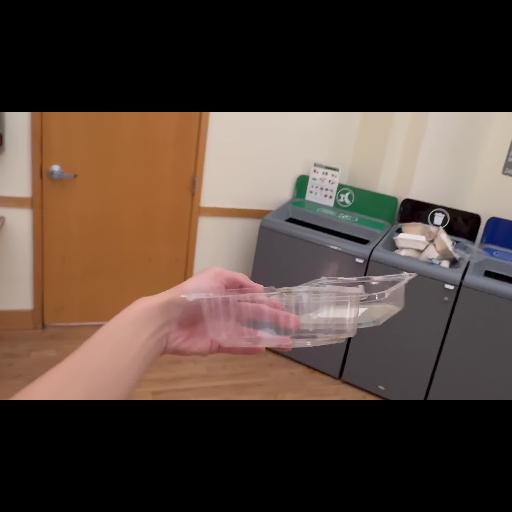small_plastic_container: (180, 272, 416, 350)
